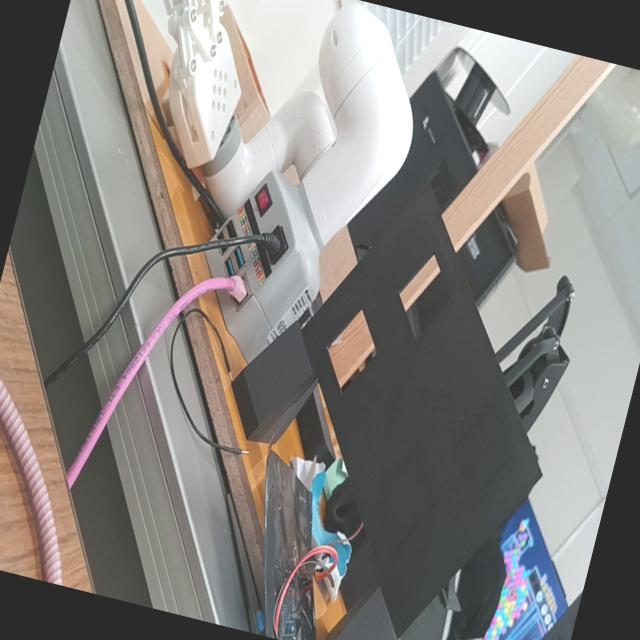Obstacle: (398, 249, 450, 339), (327, 312, 377, 399)
Wall: (303, 185, 542, 632)
